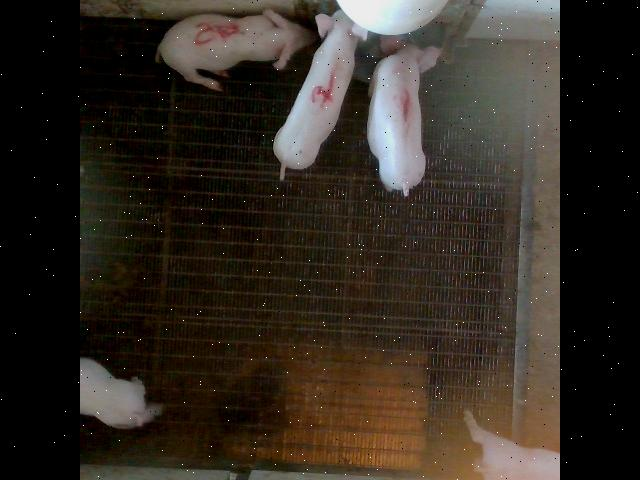pig-1: (368, 35, 441, 195)
pig-4: (274, 10, 367, 178)
pig-5: (156, 9, 317, 90)
